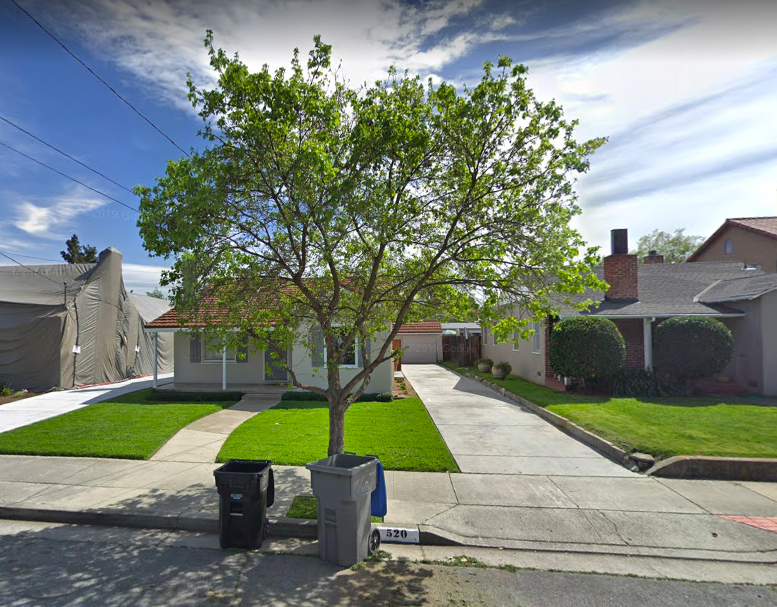tree: (128, 28, 611, 457)
